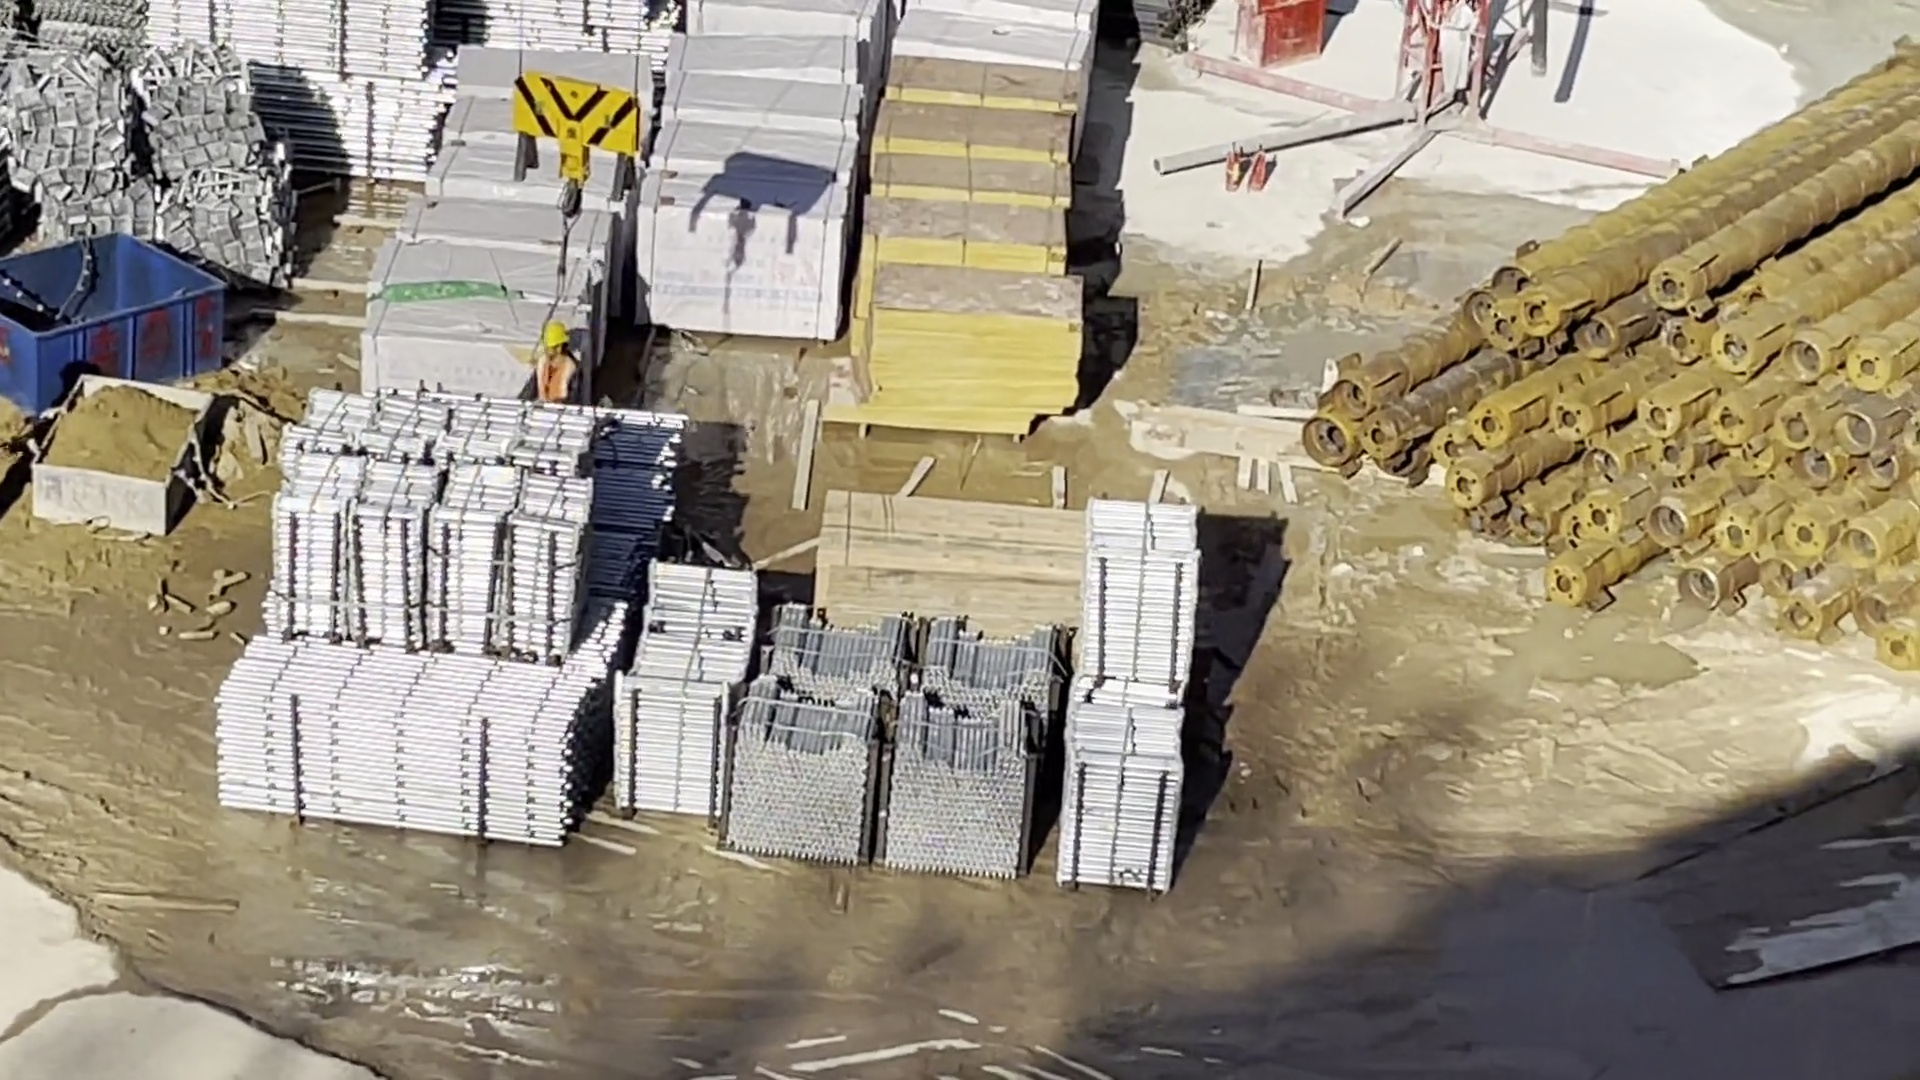helmet: (529, 319, 579, 351)
hook: (513, 62, 653, 201)
hopper: (12, 215, 231, 398), (43, 373, 211, 529)
person: (529, 315, 597, 417)
scaffold: (248, 391, 727, 835), (768, 593, 1028, 875), (1058, 493, 1195, 894)
vest: (540, 362, 585, 395)
